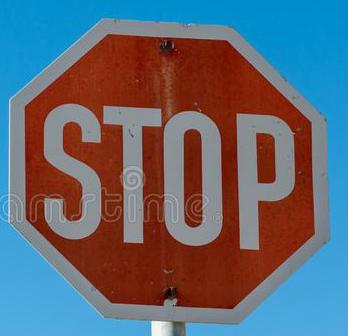Stop sign: (0, 0, 347, 335)
